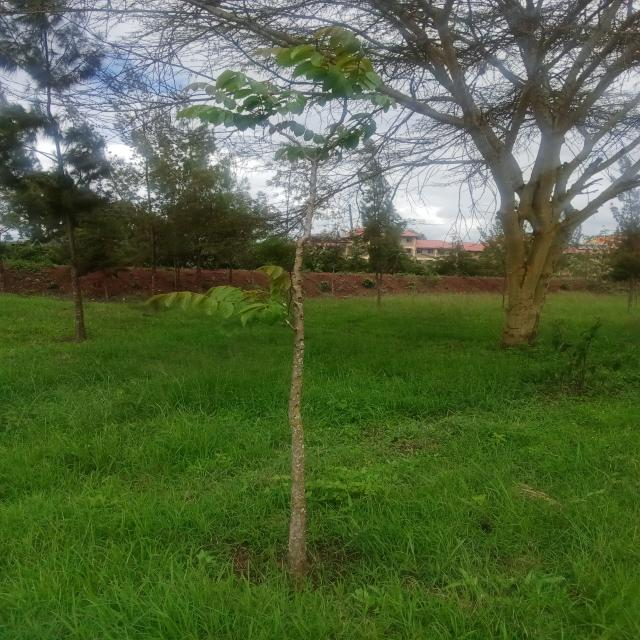Polyscias Kikuyensis: (177, 46, 396, 579)
